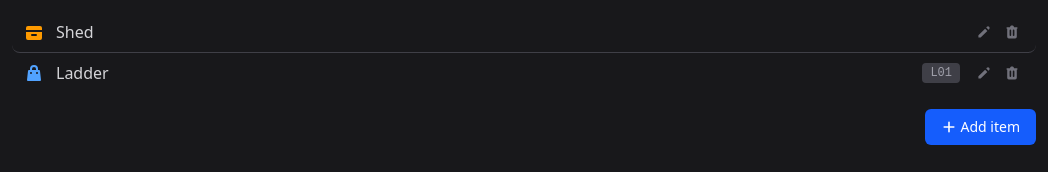
Scenario: NodeBrowser › navigates back to root via breadcrumb Home button
Click the button "Shed" at (75, 32), box left=56, top=20, right=960, bottom=44
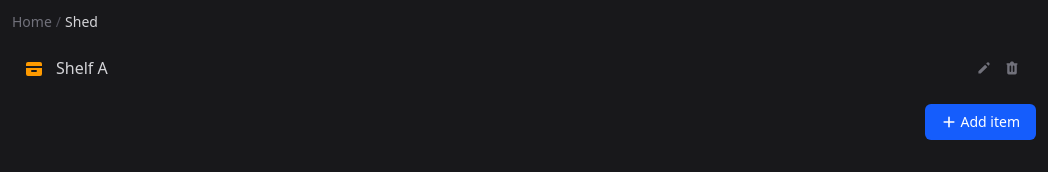
Click the button "Home" at (32, 22), box left=12, top=12, right=52, bottom=32
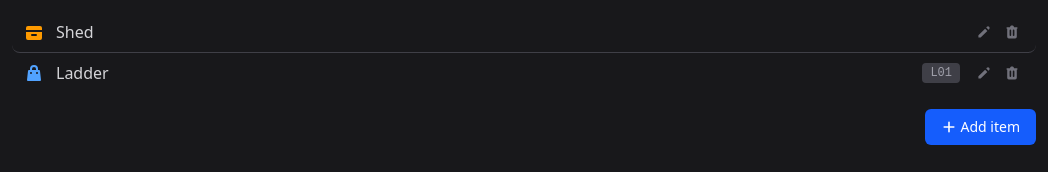
Expected: the navigation bar "breadcrumb" is gone
Expected: the button "Shed" is shown, left=56, top=20, right=960, bottom=44
Expected: the text "Ladder" is shown, left=56, top=62, right=109, bottom=84
